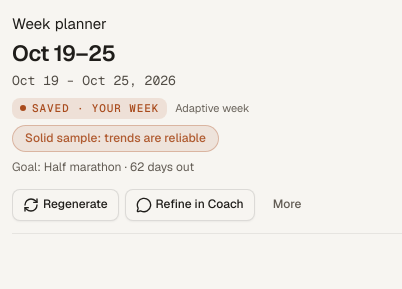
Test case: plan header actions › keeps the secondary actions behind More on phones until it is pressed
The width and height of the screenshot is (402, 289).
Click the button "More".
click(287, 205)  # box x1=261 y1=189 x2=313 y2=221
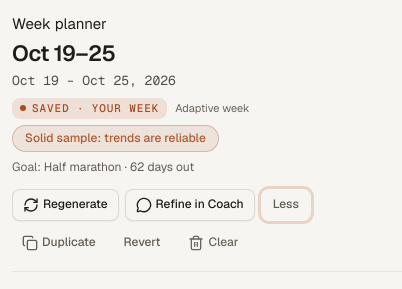
expect the button "Less" is expanded: met, box x1=261 y1=189 x2=311 y2=221
